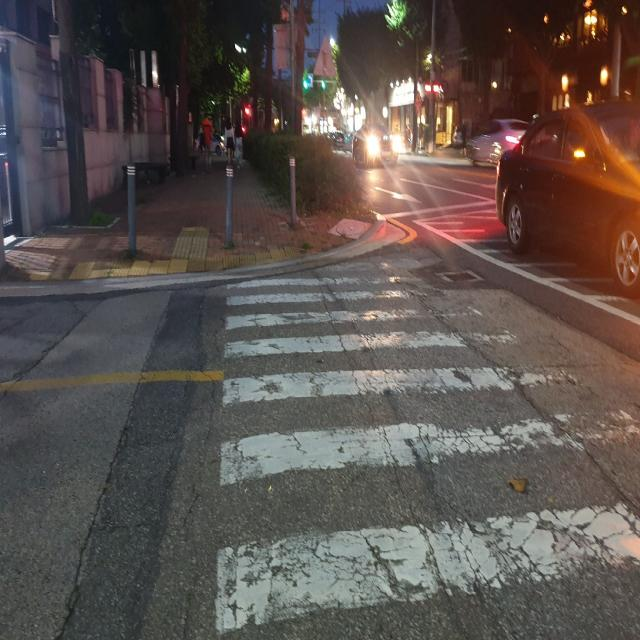횡단보도: (214, 276, 640, 637)
